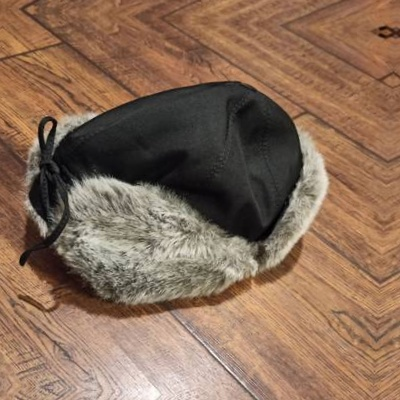Hat: (0, 57, 356, 329)
